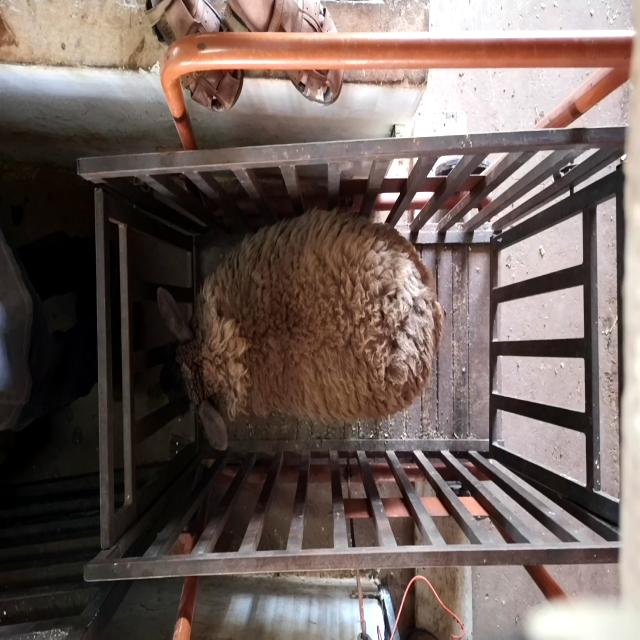sheep: (156, 209, 443, 452)
